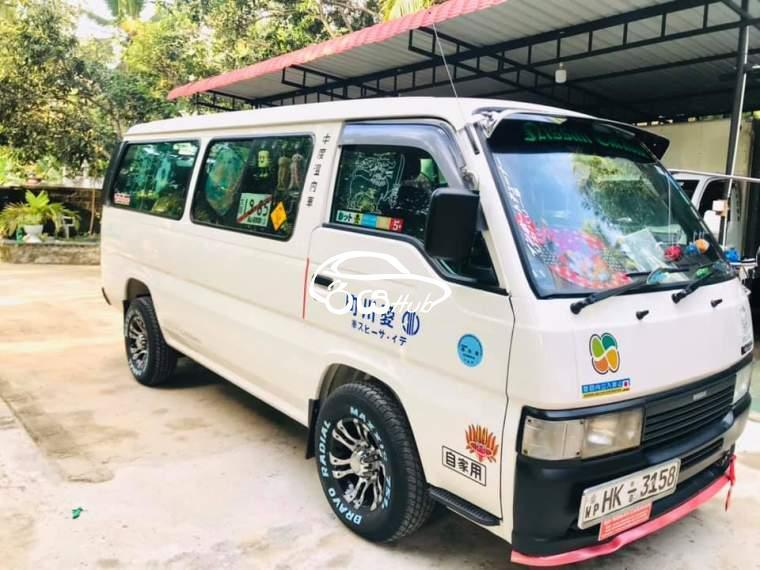car: (92, 91, 756, 561)
